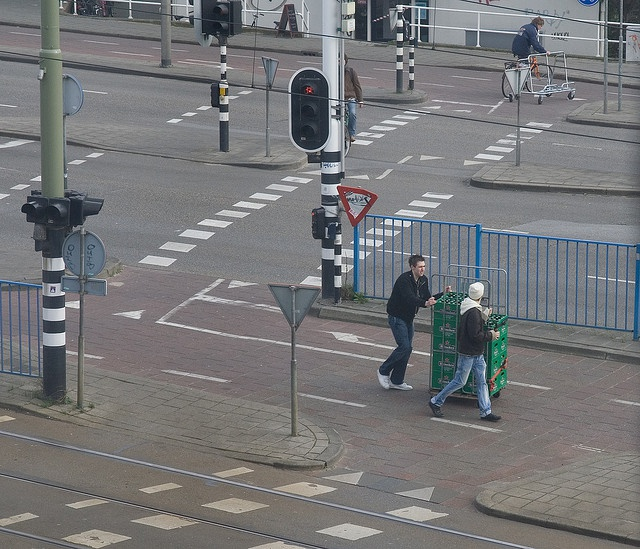non-vehicle: (501, 54, 553, 98), (344, 97, 356, 158)
